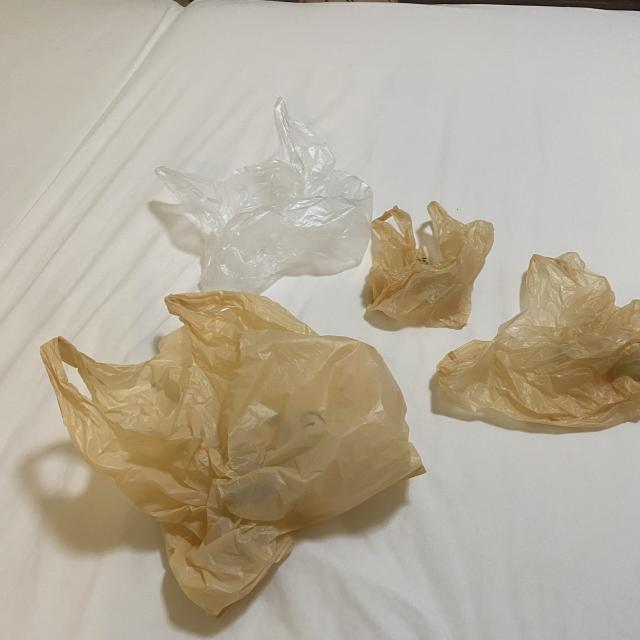Single-layer Plastic: (41, 291, 425, 616), (155, 98, 372, 292), (436, 252, 640, 428), (368, 201, 494, 329)
